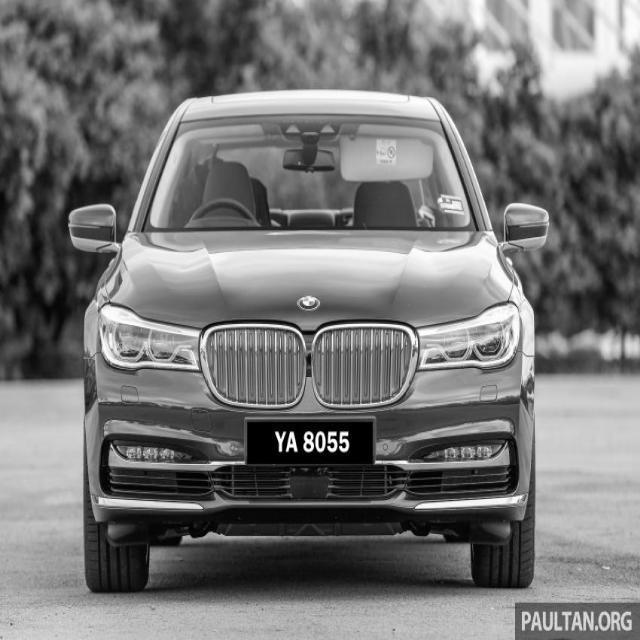License_Plate: (236, 413, 383, 470)
car: (69, 81, 549, 593)
